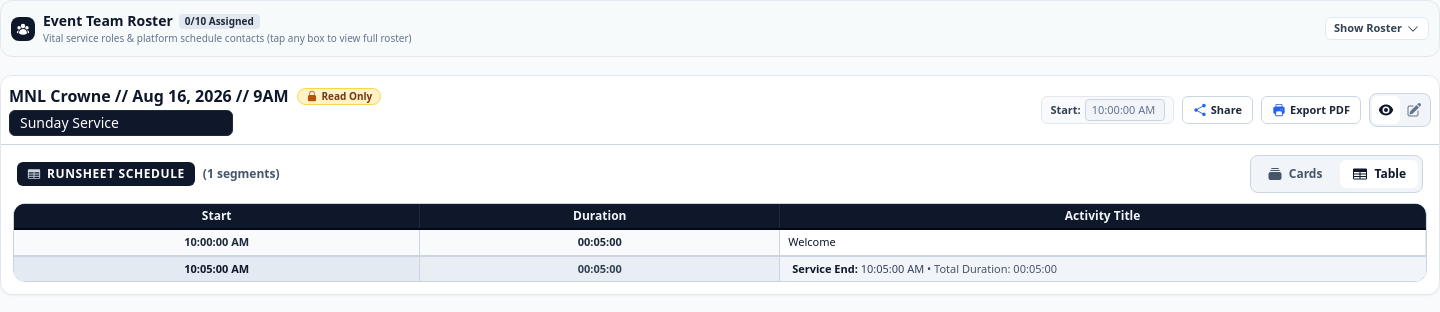
Test: RunsheetTableEditor Export PDF button › shows a loading state and ignores a second click while exporting
This screenshot has width=1440, height=312.
Click the button "Export PDF" at (1311, 110), box [1261,96,1361,124]
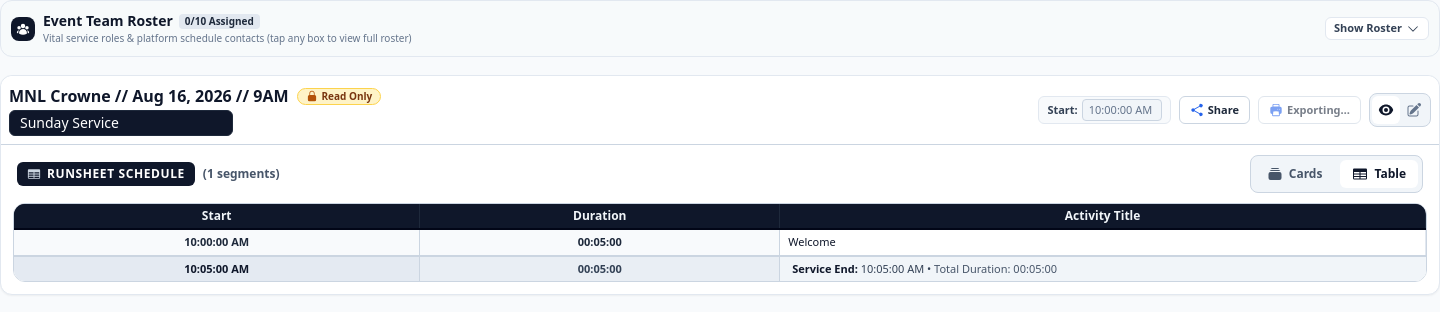
Expected: the button "Exporting…" is disabled
Expected: the text "Exporting…" is shown, [1287,102,1350,118]
Click the button "Exporting…" at (1310, 110), box [1258,96,1361,124]
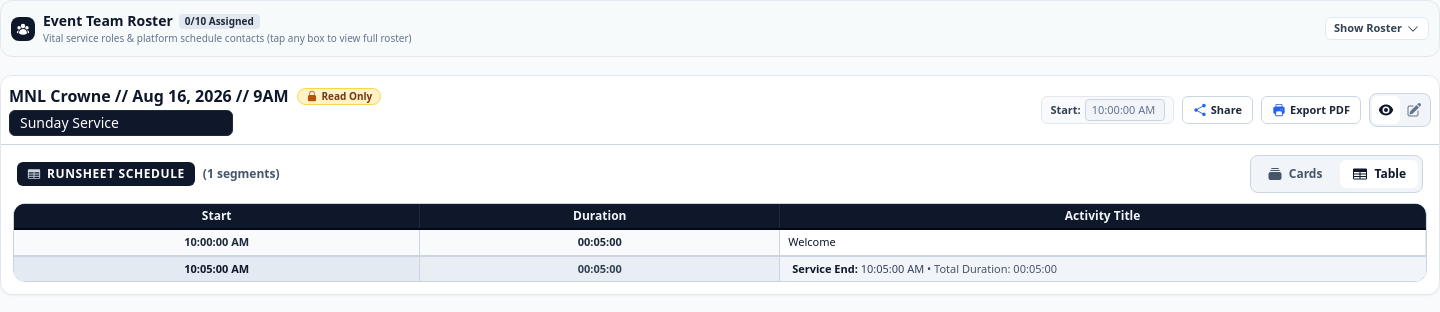
Expected: the button "Export PDF" is enabled, [1261,96,1361,124]
